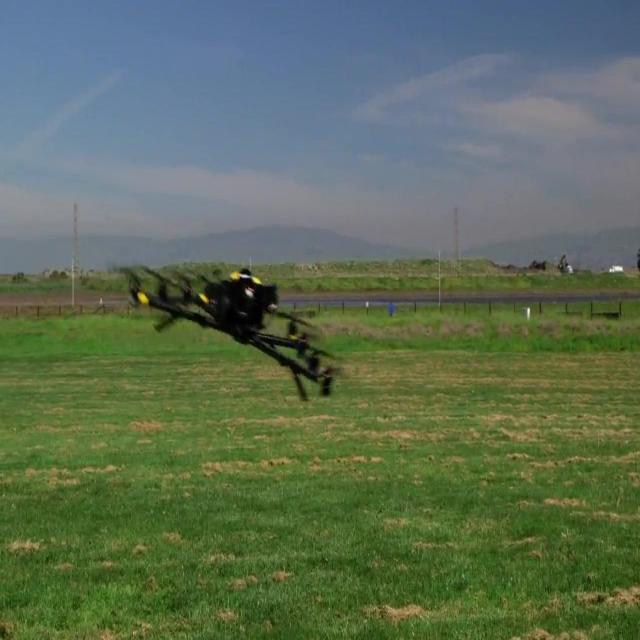drone: (116, 253, 340, 408)
